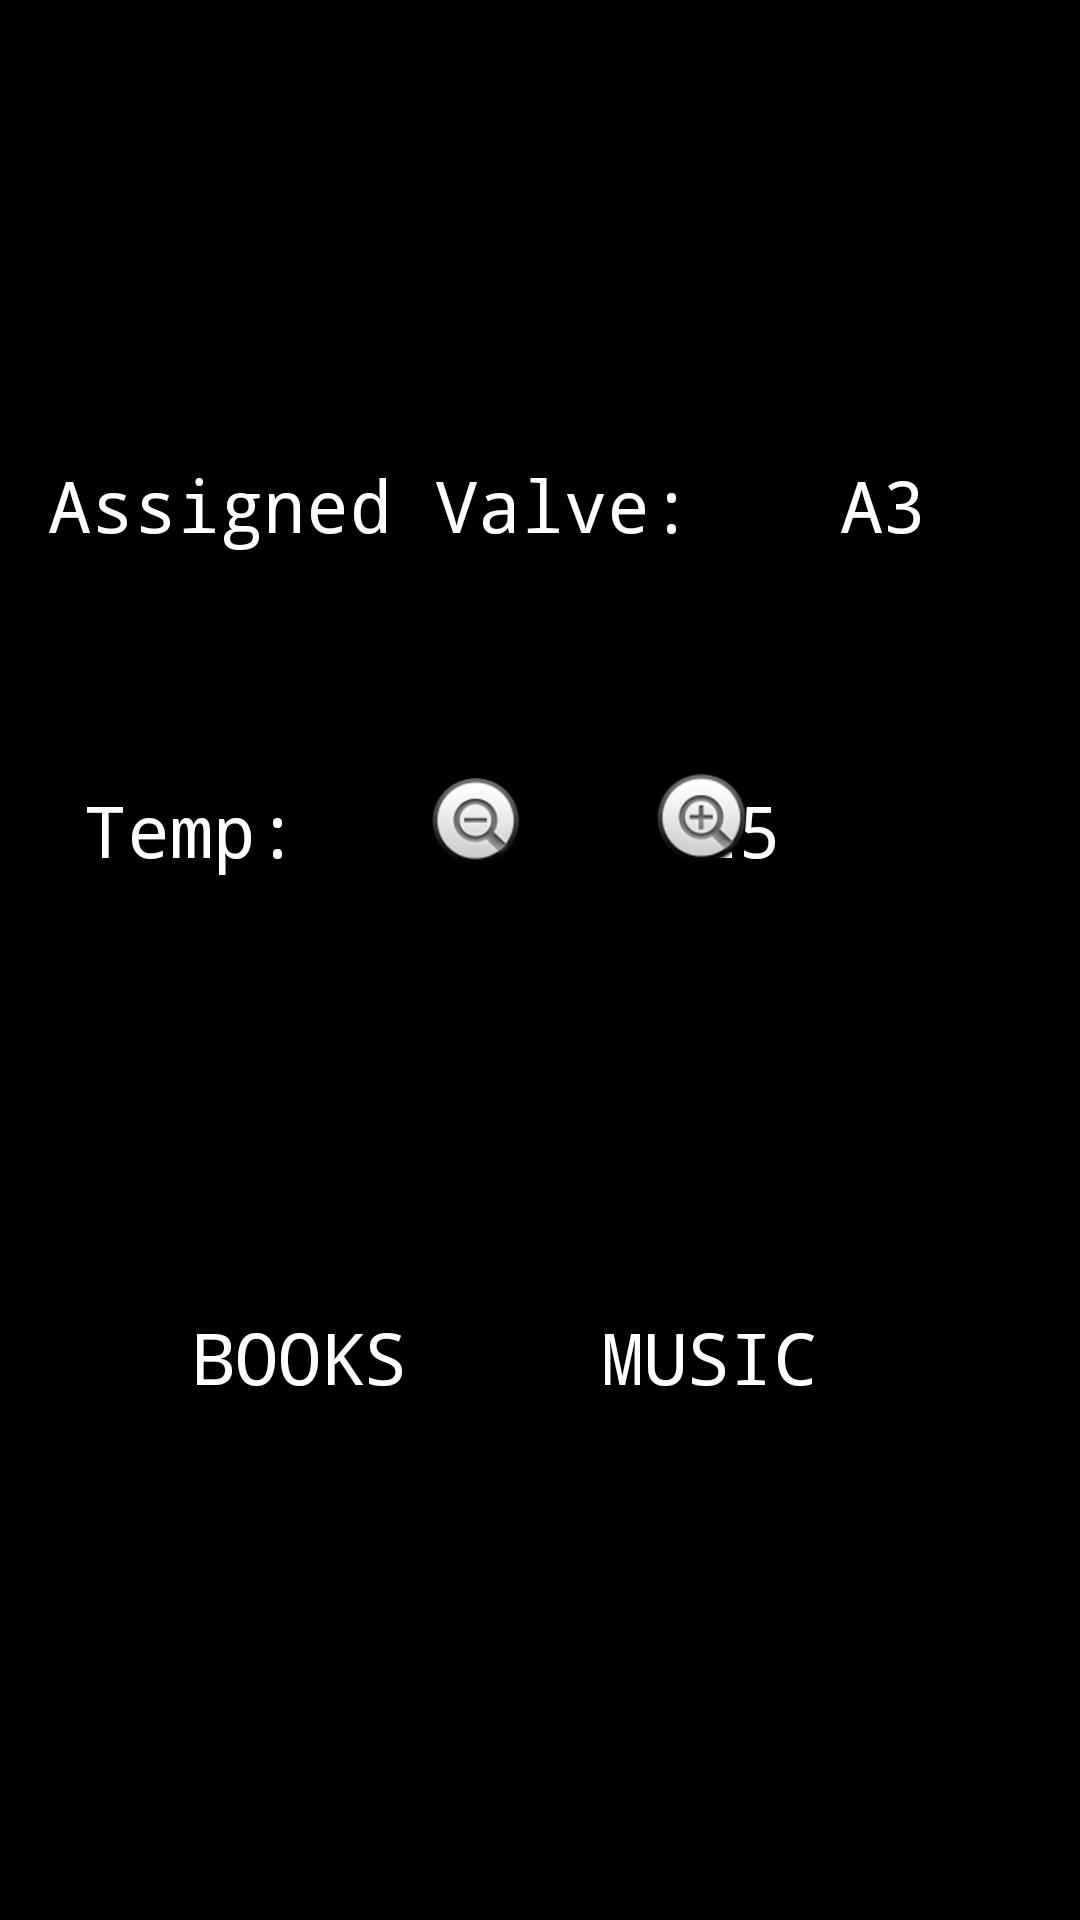

Where to tap for icons on this 1080w x 1920h app screen, as point (x, y):
minus: point (476, 819)
